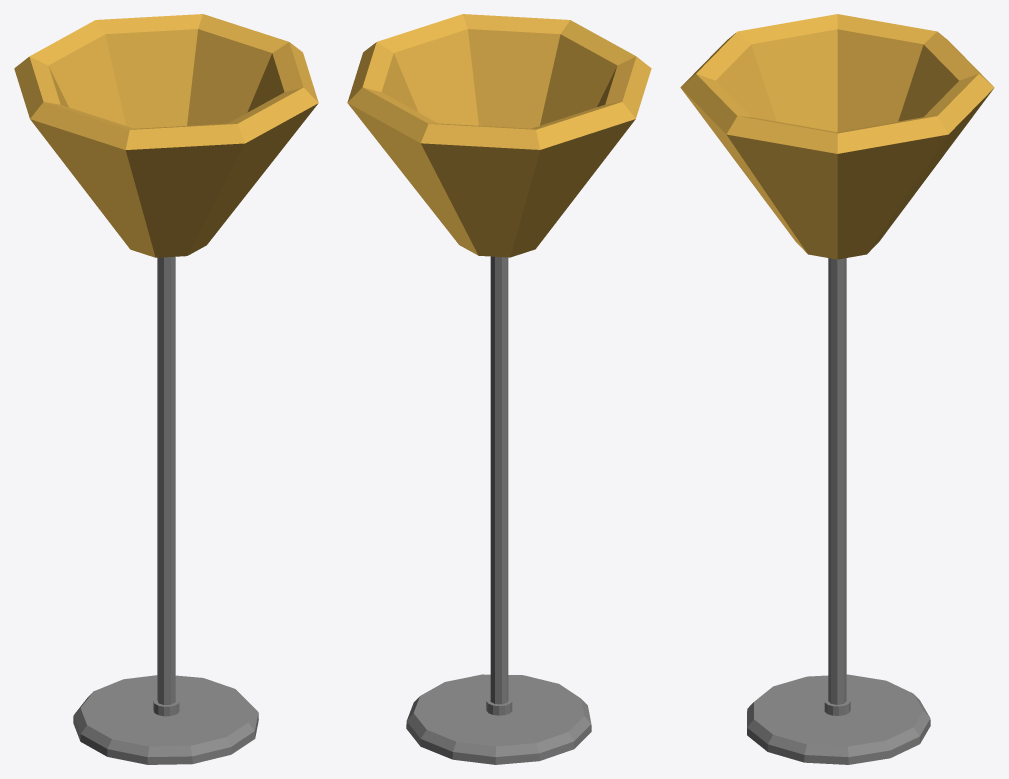
3 views of the same model, side by side, from view 1: azimuth 30°, elevation 25°; view 2: azimuth 150°, elevation 25°; view 3: azimuth 270°, elevation 25° (orthographic).
Visible parts, largest first — view 1: Lamp B; view 2: Lamp B; view 3: Lamp B.
Part boxes in pixels (x1,y1,x2,y2): Lamp B: (14, 14, 318, 764); Lamp B: (347, 14, 651, 764); Lamp B: (680, 14, 994, 764).
Size of the model in its own units: 3.65 by 8.37 by 3.65.
